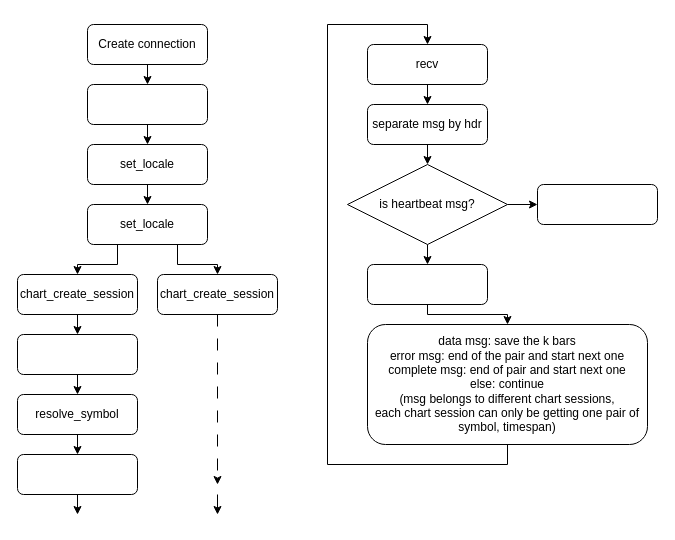
This 675x540 diagram has some shape labels left out. Here are the shapes that lost their labels. From the top down, the centre of each, then its label:
the point at 147,104: set_auth_token
the point at 597,204: Send same msg
the point at 427,284: parse msg with json
the point at 77,354: switch_timezone
the point at 77,474: create_series
